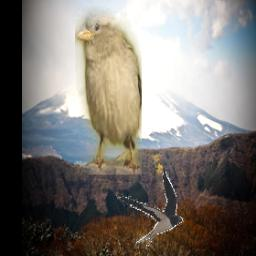Sparrow: (76, 7, 143, 176)
Swallow: (116, 167, 184, 247)
